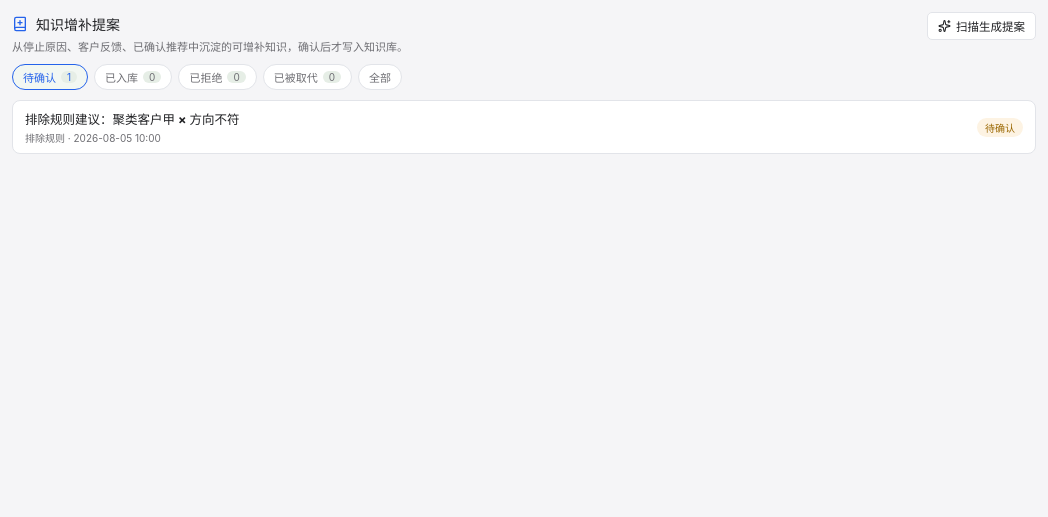
Test: 知识增补提案（knowledge_proposal） › 展开提案：展示内容与可读证据列表
The width and height of the screenshot is (1048, 517).
Click the button with aria-label "查看提案：排除规则建议：聚类客户甲 × 方向不符".
click(132, 120)  # box [13,101,1035,153]
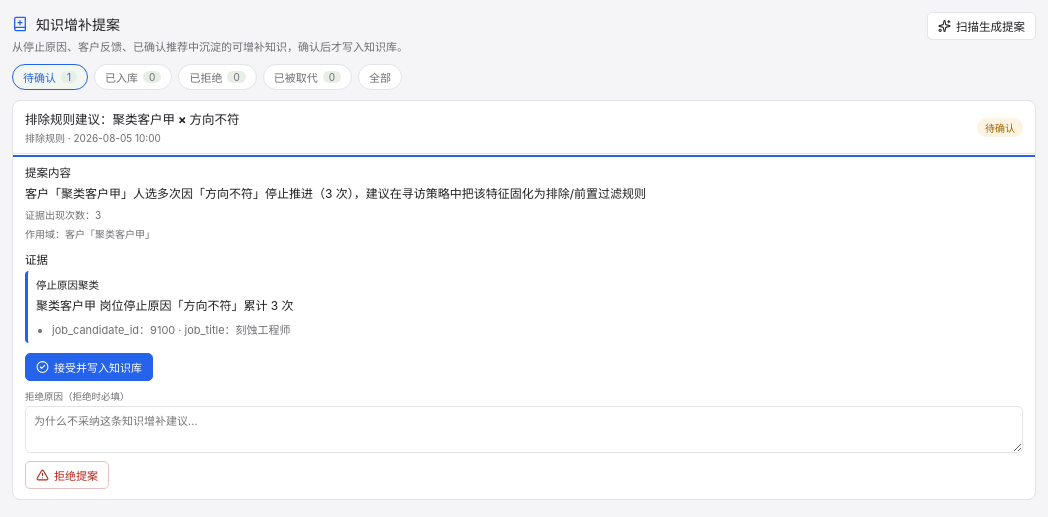
Check: the text "客户「聚类客户甲」人选多次因「方向不符」停止推进（3 次），建议在寻访策略中把该特征固化为排除/前置过滤规则" is shown, box [25,186,646,201]
Check: the text "停止原因聚类" is shown, box [36,279,99,292]
Check: the text "聚类客户甲 岗位停止原因「方向不符」累计 3 次" is shown, box [36,298,294,313]
